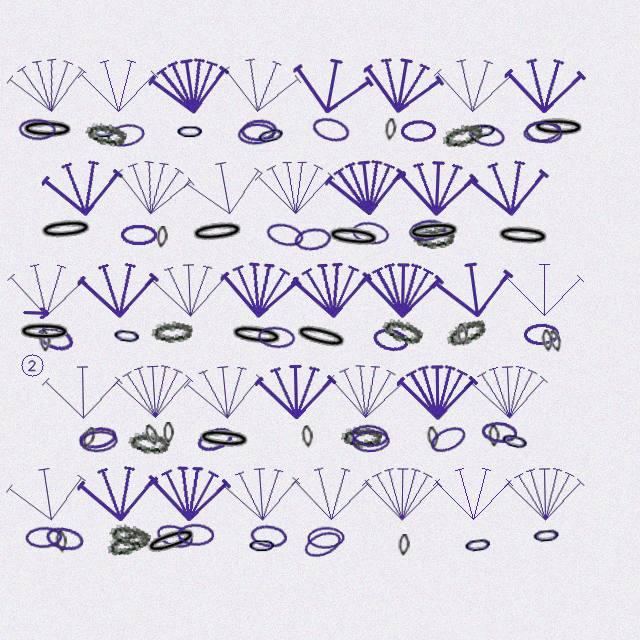chain: (142, 522, 201, 560), (292, 320, 350, 354), (443, 314, 489, 351), (104, 525, 150, 561), (228, 321, 285, 350), (189, 218, 246, 246), (325, 223, 382, 251), (38, 216, 94, 243), (440, 119, 485, 152), (427, 422, 469, 457), (301, 527, 344, 561), (495, 223, 551, 249), (196, 426, 252, 452), (380, 315, 425, 347), (406, 219, 462, 244), (194, 423, 236, 456), (34, 322, 76, 354), (310, 114, 352, 145), (108, 521, 152, 550), (154, 521, 195, 552), (20, 118, 75, 141), (531, 116, 586, 139), (264, 220, 306, 250), (84, 120, 128, 148), (17, 321, 72, 343), (466, 121, 507, 150), (44, 524, 85, 553), (371, 325, 411, 354), (105, 121, 146, 149), (350, 219, 391, 247), (77, 424, 118, 452), (407, 217, 448, 244), (522, 118, 562, 145), (413, 225, 455, 250), (151, 319, 193, 344), (128, 430, 170, 455), (524, 119, 564, 145), (293, 226, 332, 252), (249, 523, 288, 549), (257, 325, 296, 350), (79, 429, 118, 454), (350, 423, 389, 448), (480, 420, 519, 445), (254, 121, 288, 149), (498, 427, 532, 455), (341, 425, 382, 448), (351, 429, 390, 453), (237, 122, 275, 146), (240, 118, 278, 142), (18, 118, 56, 141), (307, 526, 345, 549), (400, 119, 437, 142), (25, 526, 62, 549), (177, 523, 214, 546), (120, 224, 157, 246), (523, 323, 560, 345), (467, 118, 499, 143), (111, 323, 143, 348), (462, 532, 494, 557), (89, 119, 120, 143), (531, 523, 562, 547), (175, 120, 205, 142), (247, 534, 277, 556), (143, 423, 161, 447), (547, 329, 564, 353), (80, 426, 97, 450), (426, 426, 440, 449), (384, 118, 397, 141), (456, 323, 469, 346), (541, 329, 554, 352), (301, 425, 314, 448), (55, 530, 68, 553), (156, 226, 168, 248), (39, 330, 51, 352), (488, 425, 500, 447), (398, 534, 410, 556), (163, 422, 174, 444)
fan: (287, 48, 377, 122), (180, 150, 270, 224), (358, 48, 447, 121), (3, 457, 92, 529), (146, 49, 234, 121), (4, 49, 92, 120), (217, 49, 305, 120), (430, 253, 518, 324), (110, 152, 198, 222), (323, 152, 410, 221), (40, 153, 126, 221), (466, 153, 552, 221), (182, 357, 268, 425), (76, 459, 161, 526), (218, 256, 303, 322), (290, 256, 374, 322), (219, 460, 303, 526), (432, 52, 516, 117), (112, 358, 196, 423), (325, 358, 409, 423), (396, 155, 479, 219), (6, 257, 89, 321), (77, 257, 160, 321), (148, 257, 231, 321), (467, 359, 550, 423), (504, 53, 586, 116), (255, 359, 337, 422), (149, 461, 231, 524), (291, 461, 373, 524), (362, 258, 444, 320), (42, 360, 124, 422), (504, 462, 586, 524), (397, 360, 478, 422), (362, 462, 443, 524), (78, 54, 159, 115), (255, 156, 336, 217), (504, 258, 585, 319), (433, 462, 514, 523)
noise: (19, 352, 46, 379), (22, 307, 51, 319)
